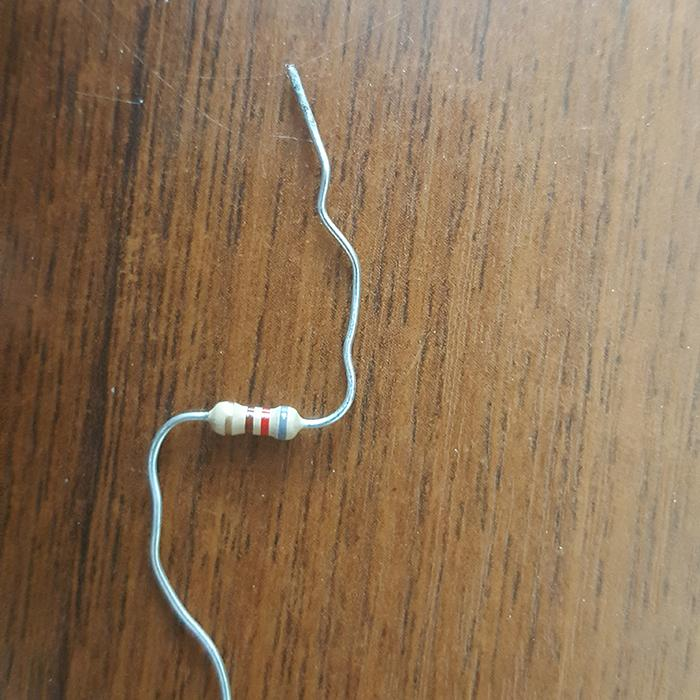resistor: (205, 400, 303, 439)
